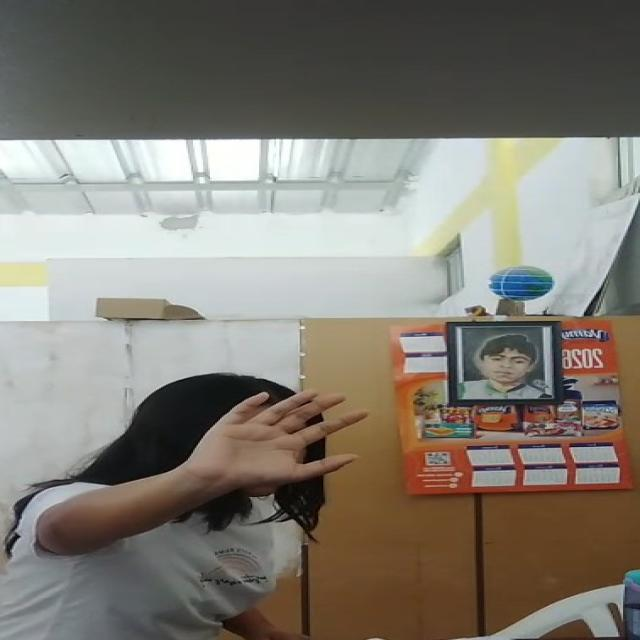7_mano_rostro: (173, 389, 322, 493)
